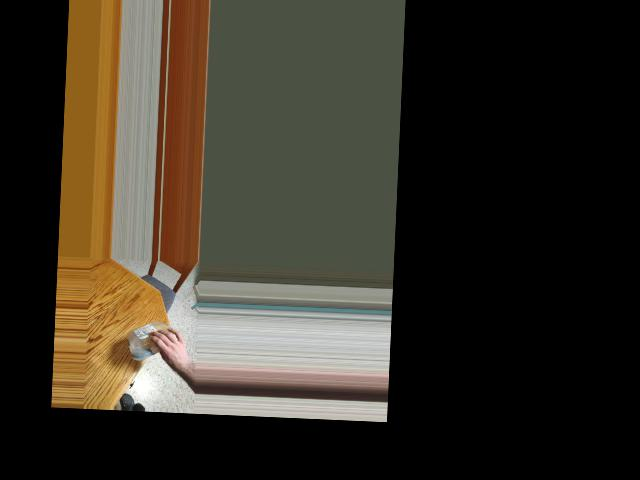cheese: (128, 326, 171, 357)
